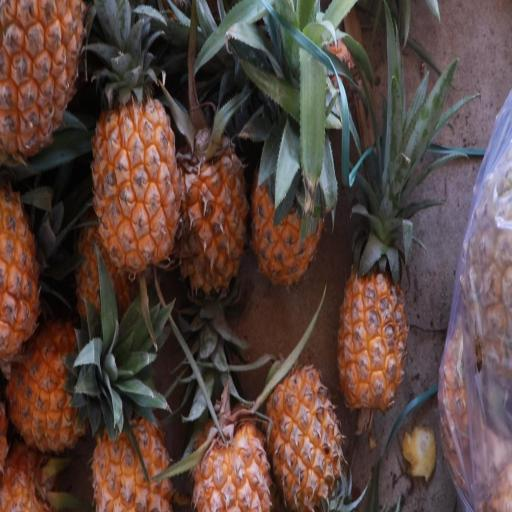Pineapple - v8 v1: (91, 62, 186, 284), (7, 304, 134, 450), (0, 0, 96, 174), (334, 231, 413, 421), (176, 106, 250, 302), (248, 118, 328, 293), (264, 357, 347, 512), (89, 384, 179, 512), (0, 179, 53, 370), (192, 395, 276, 512)
